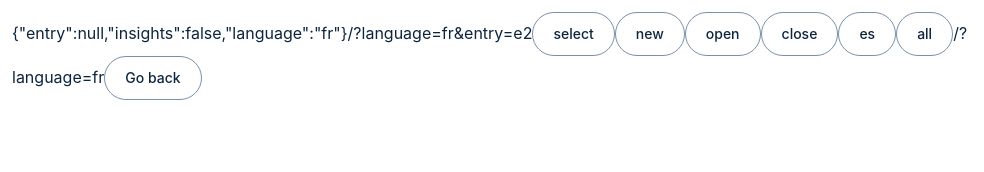
useWorkspaceParams › closes insights it opened by going Back, so history holds no duplicate
The width and height of the screenshot is (984, 172).
Click the button "open" at coordinates (723, 34), box 685,12 -> 761,56
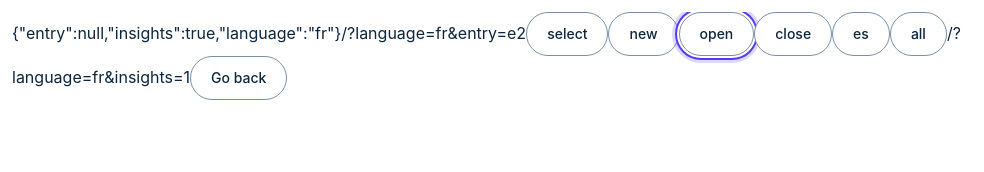
Expected: the text named "Location" reads "/?language=fr&insights=1", 12,23 -> 961,87
Click the button "close" at coordinates (793, 34), box 754,12 -> 832,56
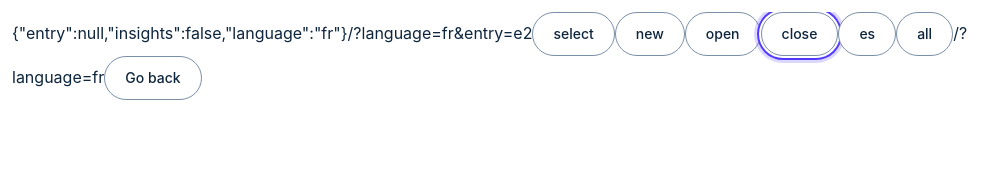
Expected: the text named "Location" reads "/?language=fr", 12,23 -> 967,87
